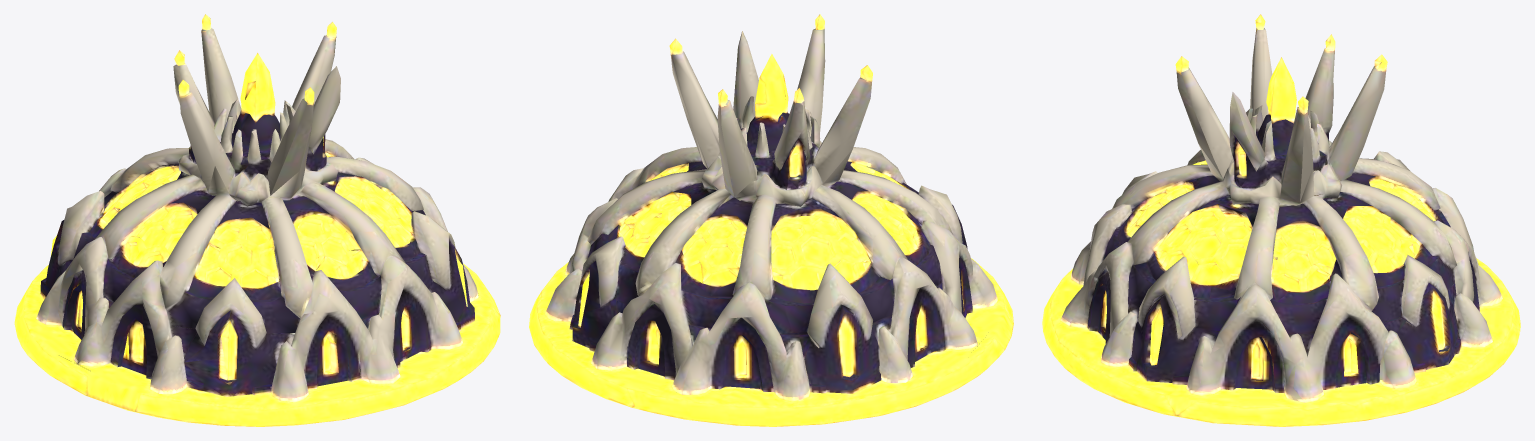
The model's file is zeynep-7-tier-3.glb.
The picture shows the model from 3 angles, left to right: view 1: azimuth 30°, elevation 25°; view 2: azimuth 150°, elevation 25°; view 3: azimuth 270°, elevation 25°; orthographic projection.
Parts seen in each view (by area): view 1: fixed-platform, moving-assembly; view 2: fixed-platform, moving-assembly; view 3: fixed-platform, moving-assembly.
Part boxes in pixels (x1,y1,x2,y2): fixed-platform: (14, 139, 500, 426); moving-assembly: (173, 14, 340, 195); fixed-platform: (529, 131, 1013, 426); moving-assembly: (669, 14, 872, 196); fixed-platform: (1042, 140, 1520, 426); moving-assembly: (1175, 14, 1387, 202).
Size of the model in its own units: 1.9 by 1.19 by 1.91.
Materials: 1 (1 with a texture image).
